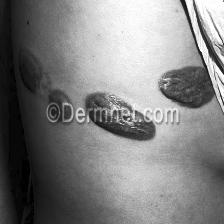Benign Marking or Mole: (84, 89, 156, 142), (157, 64, 217, 108), (15, 42, 44, 86), (48, 85, 76, 122)
